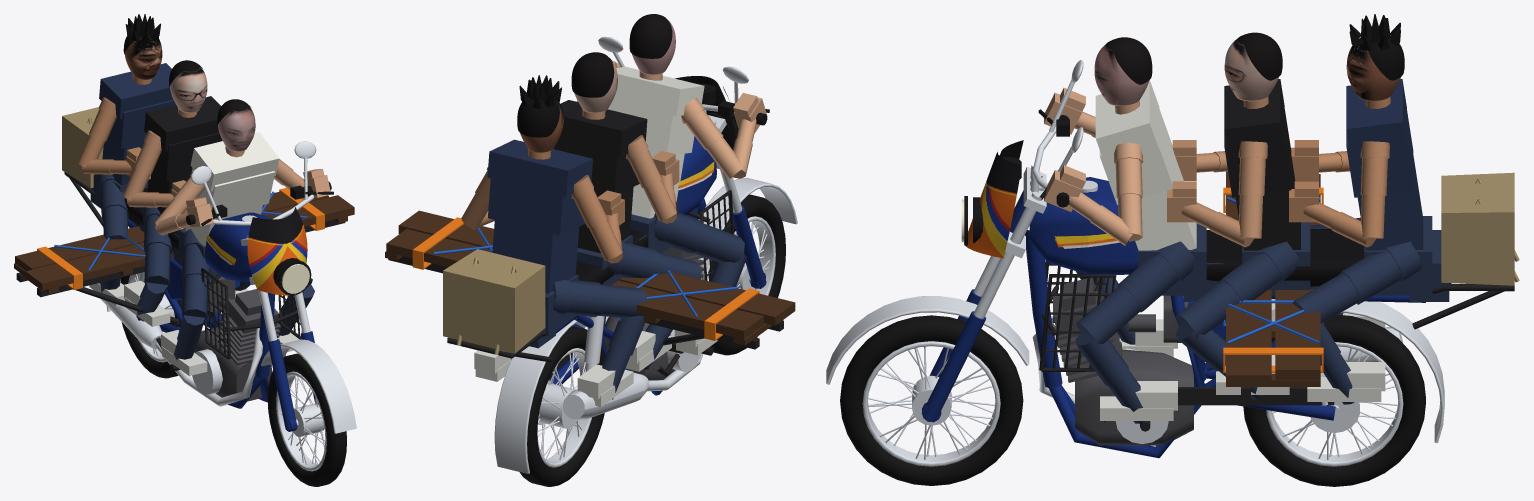
File: habalhabal-threeup.glb
3 renders of one model, left to right at view 1: azimuth 30°, elevation 25°; view 2: azimuth 150°, elevation 25°; view 3: azimuth 270°, elevation 25°, orthographic. The views are drawn at different scales.
Visible parts, largest first — view 1: Torso (×3), Plank, Leg_R (×3), Spin (×2), Body, Engine, Fork, Ironwork, Photo (×3), Cowl, Arm_R (×3), Chrome (+19 smaller); view 2: Torso (×3), Plank, Cargo, Chrome, Leg_R (×3), Spin (×2), Arm_R (×3), Hair (×3), Rim (×2), Ironwork, Shoe_R (×3), Body (+15 smaller); view 3: Torso (×3), Spin (×2), Leg_L (×3), Body, Rim (×2), Engine, Cargo, Plank, Arm_L (×3), Fork, Ironwork, Photo (×3) (+16 smaller).
Part boxes in pixels (<box>): Torso (×3): <box>99,63,279,246</box>; Plank: <box>14,191,354,293</box>; Leg_R (×3): <box>98,174,210,320</box>; Spin (×2): <box>121,275,346,486</box>; Body: <box>127,212,275,408</box>; Engine: <box>194,276,280,401</box>; Fork: <box>211,194,356,433</box>; Ironwork: <box>16,172,345,371</box>; Photo (×3): <box>124,38,255,151</box>; Cowl: <box>247,207,307,295</box>; Arm_R (×3): <box>77,97,206,224</box>; Chrome: <box>100,215,271,406</box>; Torso (×3): <box>487,66,704,293</box>; Plank: <box>385,210,795,345</box>; Cargo: <box>443,249,545,354</box>; Chrome: <box>494,257,708,473</box>; Leg_R (×3): <box>553,212,744,318</box>; Spin (×2): <box>519,194,785,486</box>; Arm_R (×3): <box>571,97,744,260</box>; Hair (×3): <box>517,14,672,137</box>; Rim (×2): <box>537,216,775,467</box>; Ironwork: <box>388,190,783,377</box>; Shoe_R (×3): <box>577,330,717,406</box>; Body: <box>549,136,716,395</box>; Torso (×3): <box>1095,79,1423,250</box>; Spin (×2): <box>840,314,1425,486</box>; Leg_L (×3): <box>1076,241,1421,344</box>; Body: <box>1010,177,1425,458</box>; Rim (×2): <box>862,341,1403,466</box>; Engine: <box>1053,277,1193,445</box>; Cargo: <box>1441,172,1519,285</box>; Plank: <box>1226,171,1320,386</box>; Arm_L (×3): <box>1113,141,1389,241</box>; Fork: <box>826,125,1069,384</box>; Ironwork: <box>1039,260,1514,431</box>; Photo (×3): <box>1094,39,1400,105</box>.
Bounding box in the file's own units: 1.6 × 1.68 × 2.27.
Materials: 27 (5 with a texture image).
